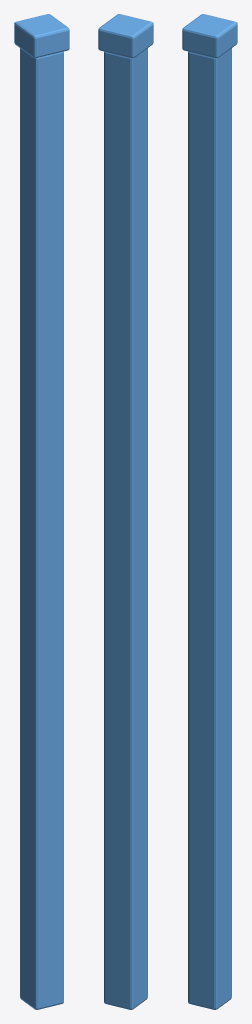
File: PGK_Post_Square_2_5m_LOD0.fbx
The picture shows the model from 3 angles, left to right: view 1: azimuth 30°, elevation 25°; view 2: azimuth 150°, elevation 25°; view 3: azimuth 330°, elevation 25°; orthographic projection.
Visible parts, largest first — view 1: Post, Cap; view 2: Post, Cap; view 3: Post, Cap.
Boxes of the visible parts, left/top/right/bottom form: Post: left=20, top=48, right=63, bottom=1009; Cap: left=14, top=14, right=69, bottom=58; Post: left=104, top=48, right=147, bottom=1009; Cap: left=98, top=14, right=153, bottom=58; Post: left=188, top=48, right=231, bottom=1009; Cap: left=182, top=14, right=237, bottom=58.
Size of the model in its own units: 0.1 by 2.56 by 0.1.
